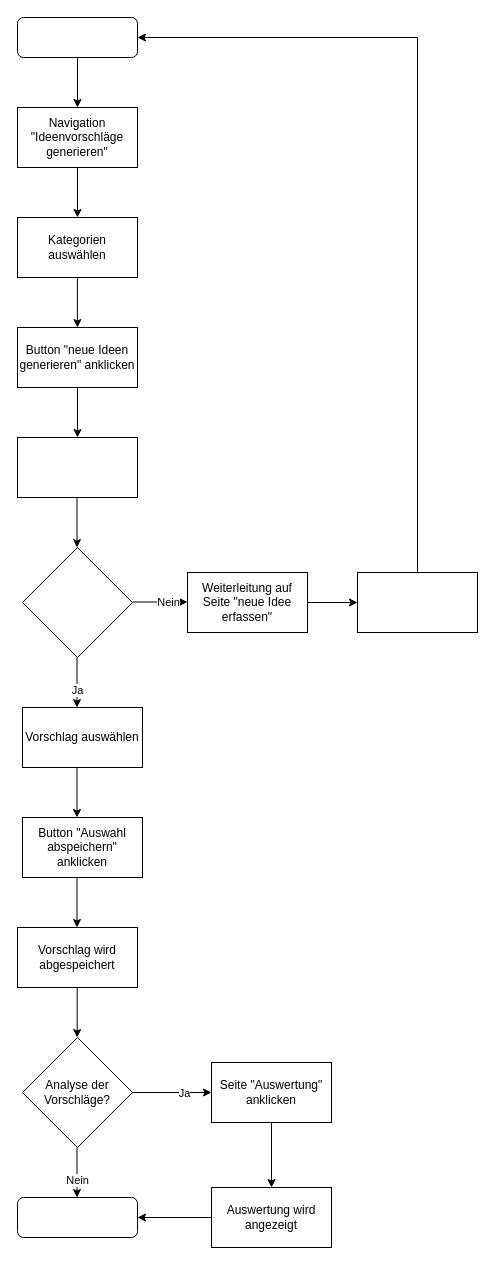
Some shapes in this 495 by 1265 pixel diagram are drawn without their labels. The centre of each missing label's shape, as x and y in pixels:
Ausgabe der Vorschläge: [77,467]
Ende: [77,1217]
neue Aktivität kann erfasst werden: [417,602]
Passender Vorschlag vorhanden?: [77,602]
Start: [77,37]
